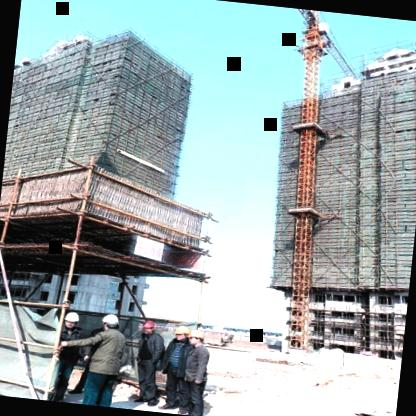helmet: (95, 311, 123, 334), (182, 327, 208, 351), (61, 308, 84, 333), (170, 320, 191, 344), (139, 316, 161, 335)
